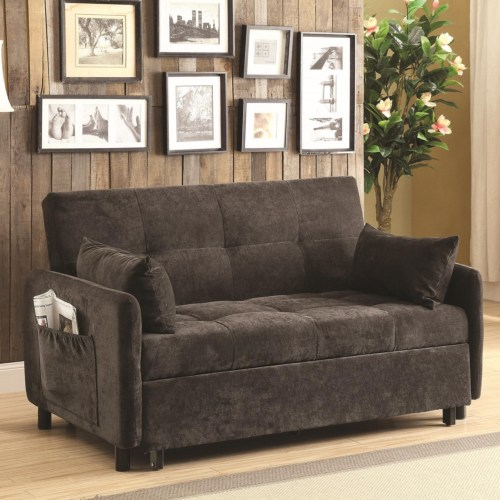chairs: (23, 174, 487, 471)
